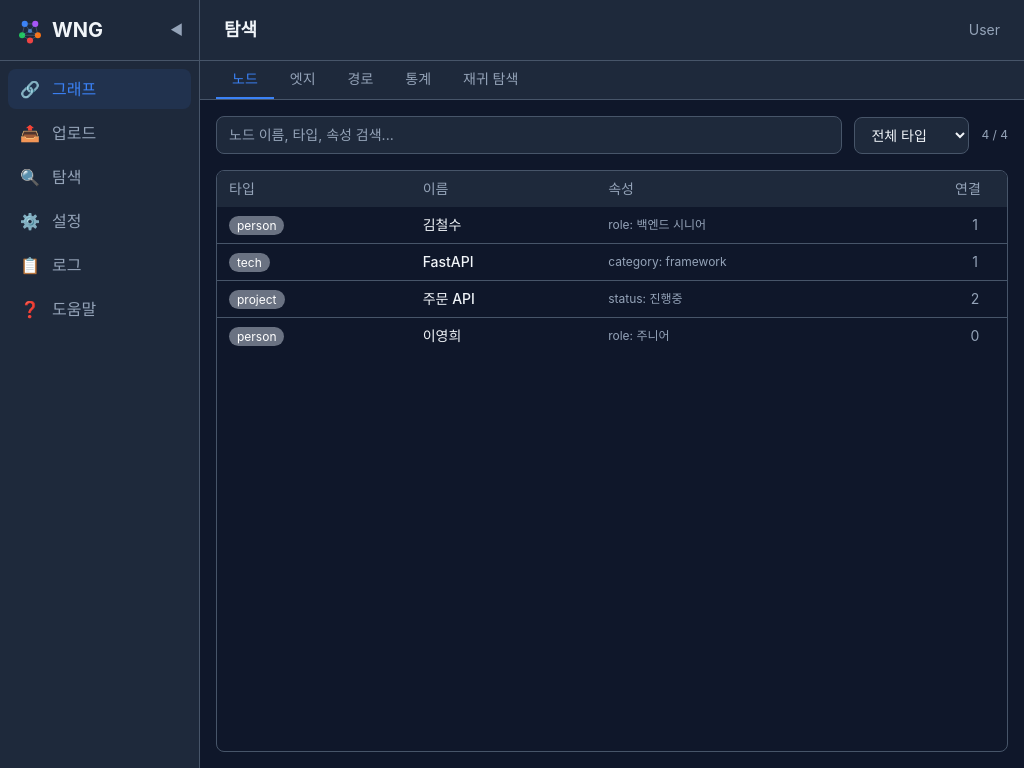
Test: QueryPage › switches to edges tab and shows edges
The width and height of the screenshot is (1024, 768).
Click the button "엣지".
click(303, 80)  # box x1=274 y1=61 x2=332 y2=99
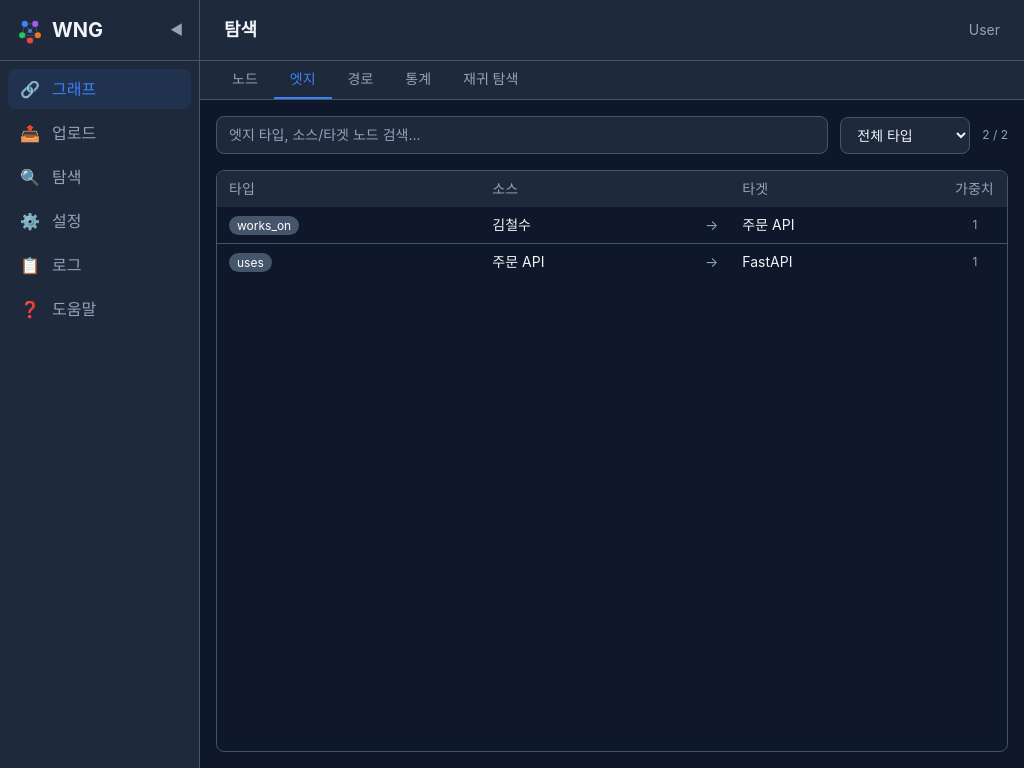
Check: the text "works_on" is shown, box x1=229 y1=216 x2=299 y2=235
Check: the text "uses" is shown, box x1=229 y1=253 x2=272 y2=272
